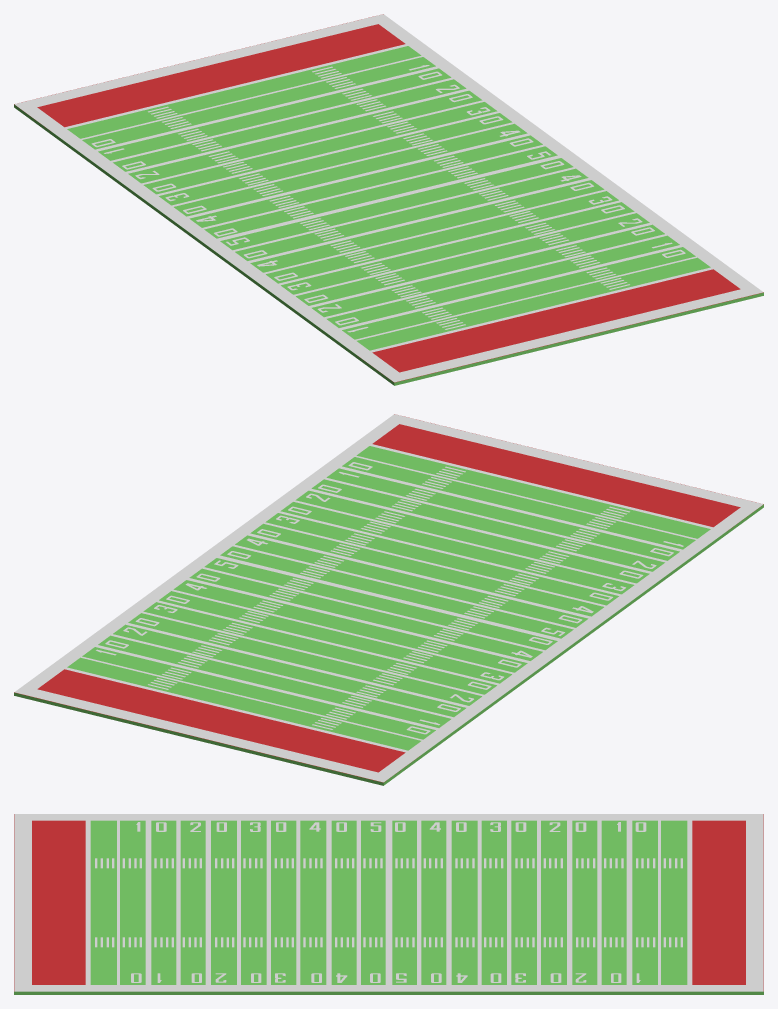
Rendered from NFL Field.fbx.
3 renders of one model, top to bottom at view 1: azimuth 30°, elevation 25°; view 2: azimuth 150°, elevation 25°; view 3: azimuth 270°, elevation 25°, orthographic.
Parts seen in each view (by area): view 1: NFL Field; view 2: NFL Field; view 3: NFL Field.
Boxes of the visible parts, <box> form: NFL Field: <box>14,14,763,385</box>; NFL Field: <box>14,414,763,785</box>; NFL Field: <box>14,814,763,994</box>.
Bounding box in the file's own units: 11880 × 102 × 21186.
